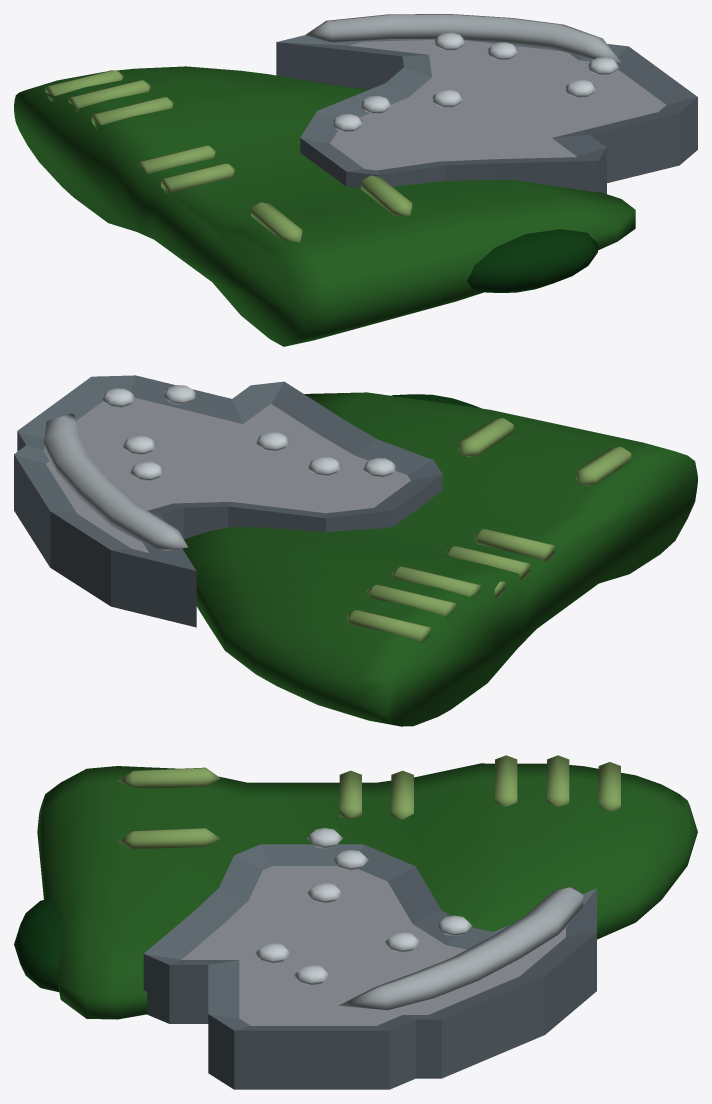
File: newshh-232.glb
3 views of the same model, one above another, from view 1: azimuth 30°, elevation 25°; view 2: azimuth 150°, elevation 25°; view 3: azimuth 270°, elevation 25° (orthographic). The views are drawn at different scales.
Parts seen in each view (by area): view 1: newshh-232; view 2: newshh-232; view 3: newshh-232.
Boxes of the visible parts, x1,y1,x2,y2 form: newshh-232: [14, 14, 697, 346]; newshh-232: [14, 375, 697, 726]; newshh-232: [14, 755, 697, 1089].
Size of the model in its own units: 2 by 0.465 by 2.2.
